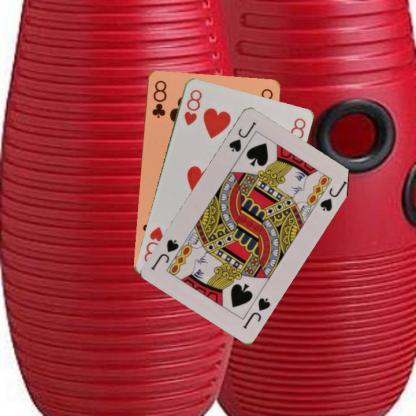8c: (149, 77, 168, 119)
8h: (181, 86, 203, 126)
Js: (226, 118, 258, 154), (240, 294, 272, 330)
